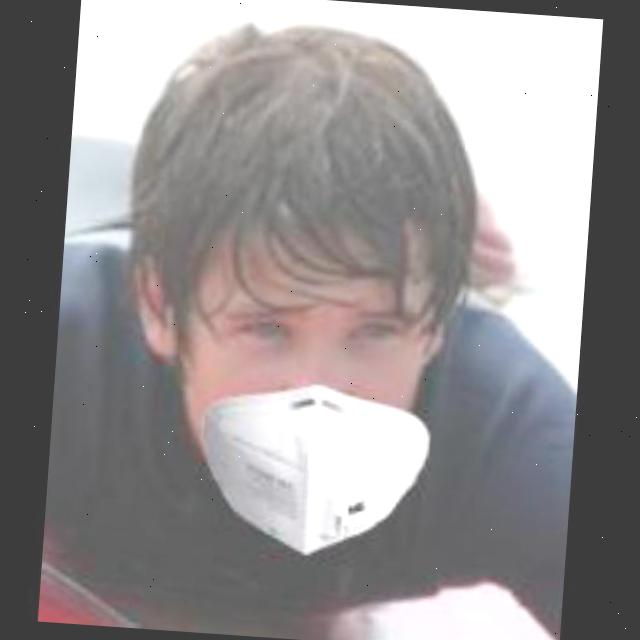suspicion: (95, 39, 478, 566)
